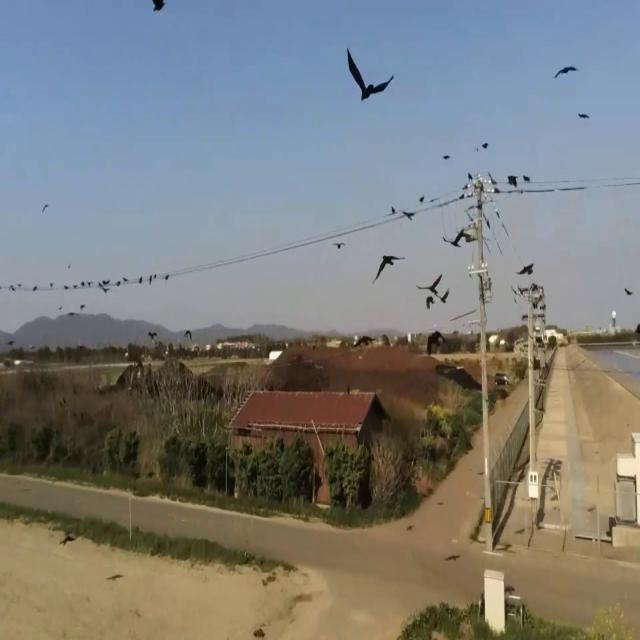bird: (346, 46, 394, 117), (374, 247, 400, 290), (445, 223, 468, 256), (555, 55, 577, 89), (424, 270, 444, 302), (424, 282, 441, 312), (518, 255, 534, 286), (402, 205, 416, 228), (578, 106, 590, 126), (100, 274, 110, 296), (512, 281, 522, 303), (152, 0, 164, 17), (334, 237, 344, 255), (426, 290, 434, 312), (523, 169, 531, 189), (625, 282, 633, 300), (42, 198, 49, 217), (116, 275, 123, 290), (164, 270, 170, 284), (150, 271, 155, 284), (139, 274, 143, 286)
